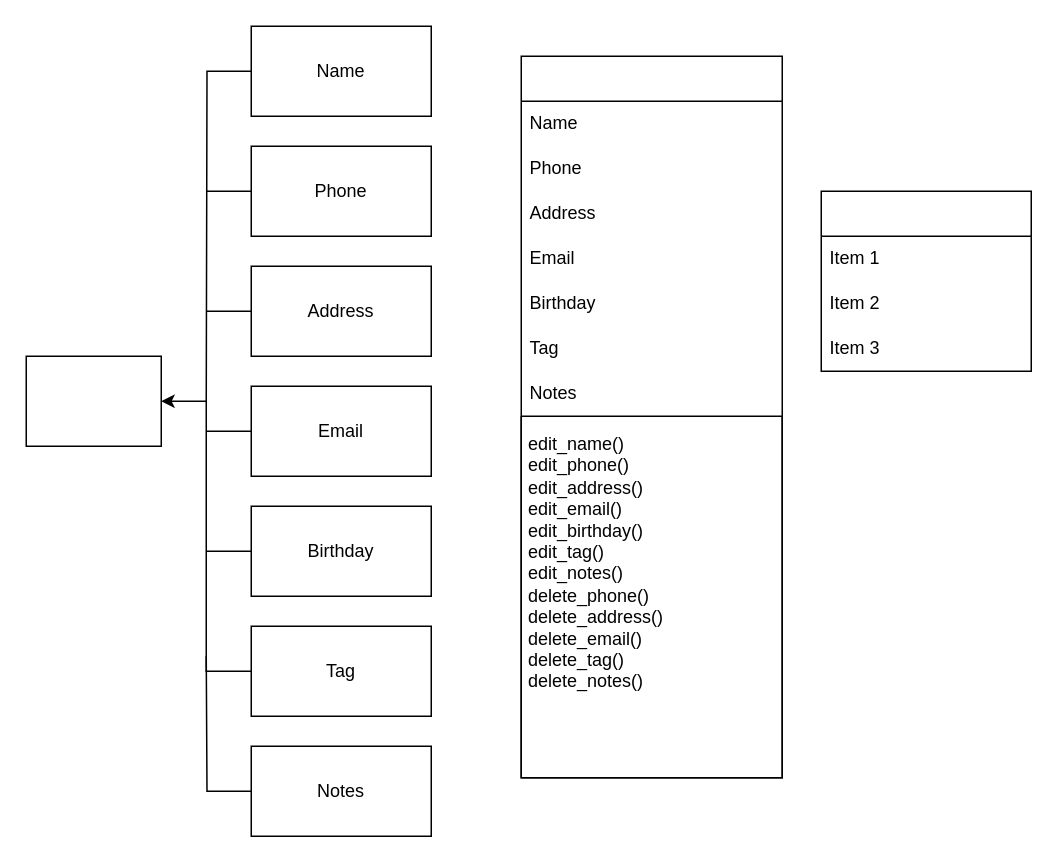
This 1058x863 diagram has some shape labels left out. The shapes that lost their labels are listed below. From the top down, each one's box as (x1, y1, x2, y2) in pixels, then its label:
(820, 190, 1031, 371): Addressbook
(25, 355, 161, 446): Field
(520, 55, 782, 778): Record
